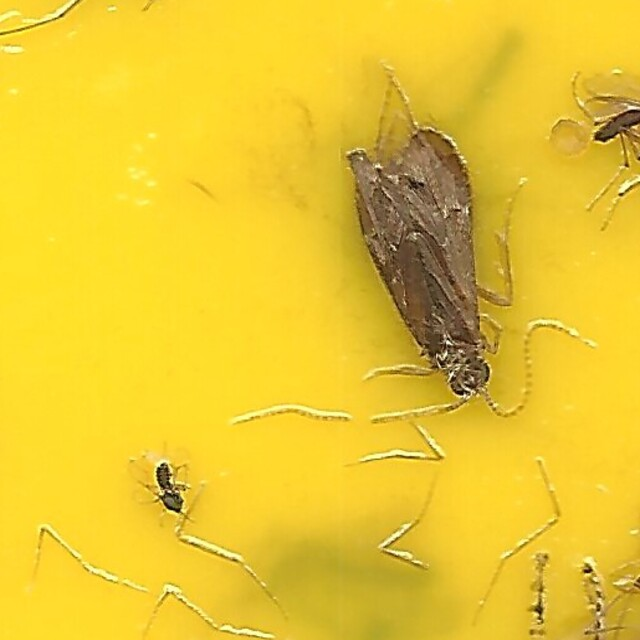Brachycera: (124, 455, 194, 514)
Trichoptera: (345, 126, 516, 399)
